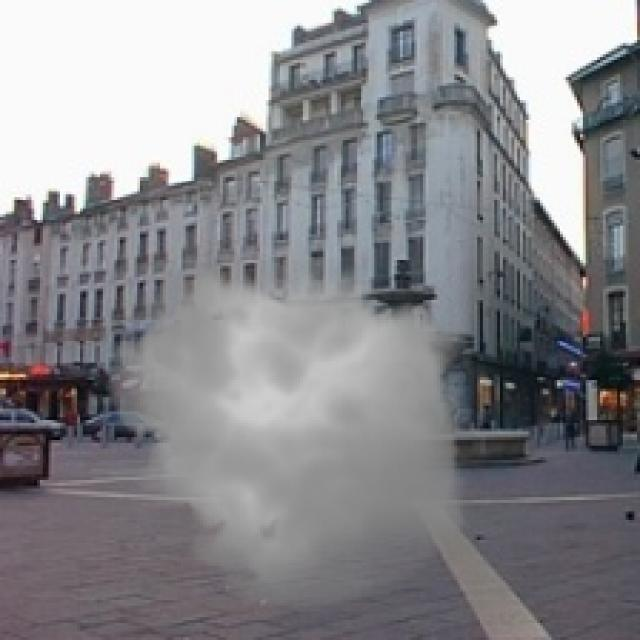smoke: (91, 240, 486, 623)
